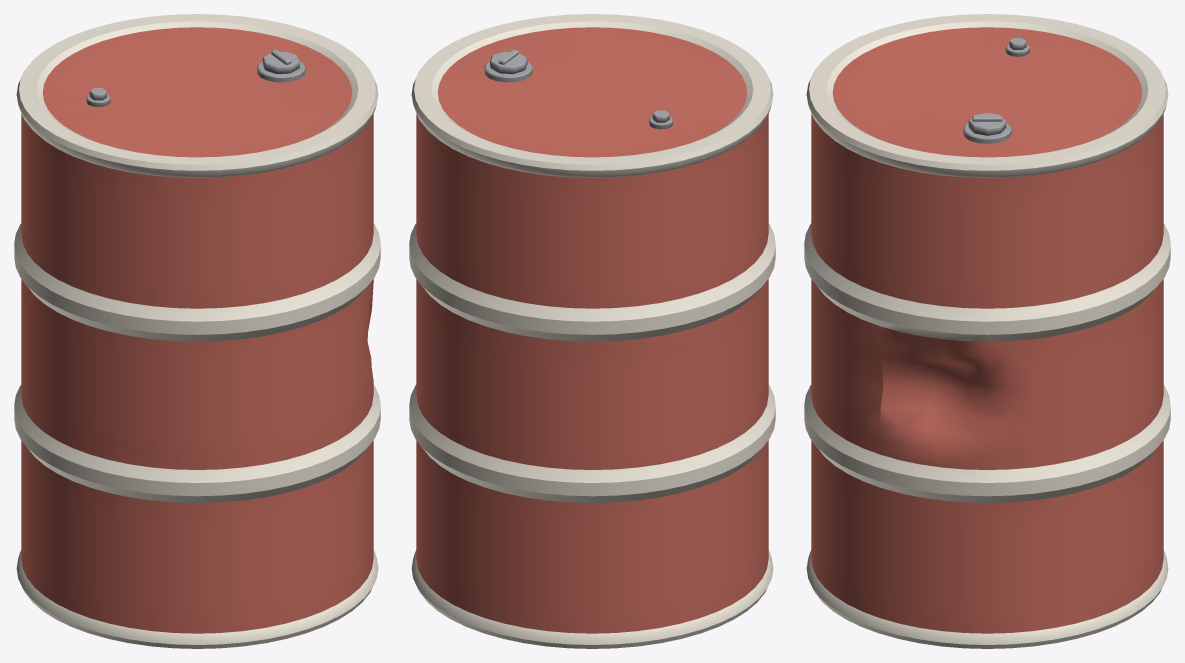
Rendered from junk_barrel.glb.
3 views of the same model, side by side, from view 1: azimuth 30°, elevation 25°; view 2: azimuth 150°, elevation 25°; view 3: azimuth 270°, elevation 25° (orthographic).
Visible parts, largest first — view 1: PART; view 2: PART; view 3: PART.
Part boxes in pixels (box(x1,y1,x2,y2)): PART: box(14, 14, 380, 648); PART: box(409, 14, 775, 648); PART: box(804, 14, 1170, 648).
Bounding box in the file's own units: 0.604 × 0.905 × 0.604.
